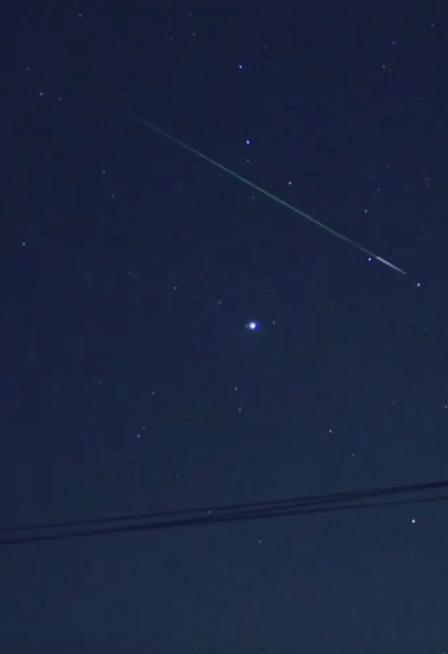meteorite: (243, 178, 434, 298)
